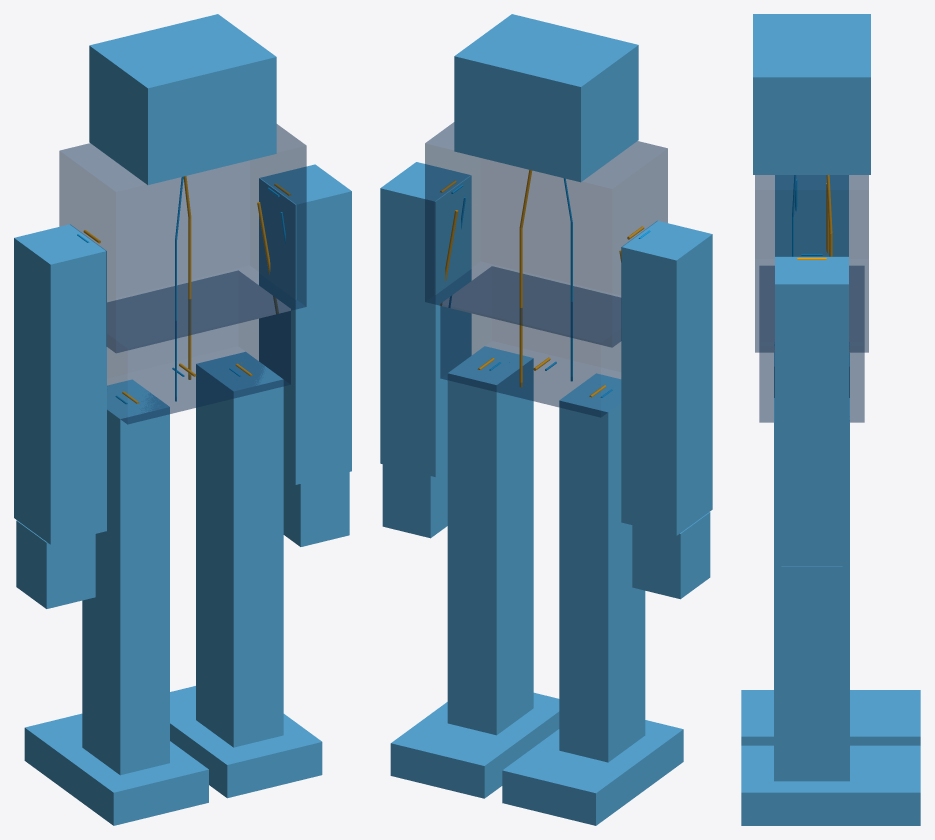
File: HR30_whole_body_harness_centerlines_candidate.glb
3 renders of one model, left to right at view 1: azimuth 30°, elevation 25°; view 2: azimuth 150°, elevation 25°; view 3: azimuth 270°, elevation 25°, orthographic. The views are drawn at different scales.
Parts seen in each view (by area): view 1: BODY-TORSO, BODY-LEFT-LEG, BODY-RIGHT-LEG, BODY-RIGHT-ARM, BODY-HEAD, BODY-LEFT-ARM, BODY-PELVIS, BODY-RIGHT-FOOT, BODY-LEFT-FOOT, BODY-RIGHT-HAND, BODY-LEFT-HAND; view 2: BODY-TORSO, BODY-LEFT-LEG, BODY-RIGHT-LEG, BODY-RIGHT-ARM, BODY-HEAD, BODY-LEFT-ARM, BODY-PELVIS, BODY-RIGHT-FOOT, BODY-LEFT-FOOT, BODY-RIGHT-HAND, BODY-LEFT-HAND, ROUTE-HN01_TORSO_POWER_SPINE; view 3: BODY-LEFT-ARM, BODY-HEAD, BODY-TORSO, BODY-LEFT-LEG, BODY-LEFT-FOOT, BODY-RIGHT-FOOT, BODY-RIGHT-ARM, BODY-PELVIS, BODY-LEFT-HAND.
Part boxes in pixels (bbox=[...]): BODY-TORSO: bbox=[59, 124, 306, 353]; BODY-LEFT-LEG: bbox=[196, 352, 283, 747]; BODY-RIGHT-LEG: bbox=[82, 379, 169, 775]; BODY-RIGHT-ARM: bbox=[14, 224, 106, 544]; BODY-HEAD: bbox=[89, 14, 276, 184]; BODY-LEFT-ARM: bbox=[259, 164, 351, 484]; BODY-PELVIS: bbox=[107, 270, 290, 424]; BODY-RIGHT-FOOT: bbox=[24, 713, 208, 825]; BODY-LEFT-FOOT: bbox=[170, 686, 322, 798]; BODY-RIGHT-HAND: bbox=[16, 520, 95, 608]; BODY-LEFT-HAND: bbox=[283, 472, 349, 546]; BODY-TORSO: bbox=[425, 122, 667, 347]; BODY-LEFT-LEG: bbox=[447, 346, 533, 735]; BODY-RIGHT-LEG: bbox=[559, 373, 645, 762]; BODY-RIGHT-ARM: bbox=[621, 220, 712, 535]; BODY-HEAD: bbox=[454, 14, 638, 182]; BODY-LEFT-ARM: bbox=[380, 162, 471, 476]; BODY-PELVIS: bbox=[440, 266, 621, 417]; BODY-RIGHT-FOOT: bbox=[502, 720, 683, 825]; BODY-LEFT-FOOT: bbox=[390, 692, 559, 798]; BODY-RIGHT-HAND: bbox=[632, 512, 710, 599]; BODY-LEFT-HAND: bbox=[382, 464, 447, 538]; ROUTE-HN01_TORSO_POWER_SPINE: bbox=[519, 228, 522, 387]; BODY-LEFT-ARM: bbox=[775, 256, 848, 566]; BODY-HEAD: bbox=[753, 14, 870, 174]; BODY-TORSO: bbox=[755, 175, 868, 352]; BODY-LEFT-LEG: bbox=[774, 398, 849, 781]; BODY-LEFT-FOOT: bbox=[741, 745, 920, 825]; BODY-RIGHT-FOOT: bbox=[741, 690, 920, 745]; BODY-RIGHT-ARM: bbox=[775, 175, 848, 256]; BODY-PELVIS: bbox=[759, 266, 864, 422]; BODY-LEFT-HAND: bbox=[781, 566, 842, 633].
Size of the model in its own units: 334 by 762 by 170.
